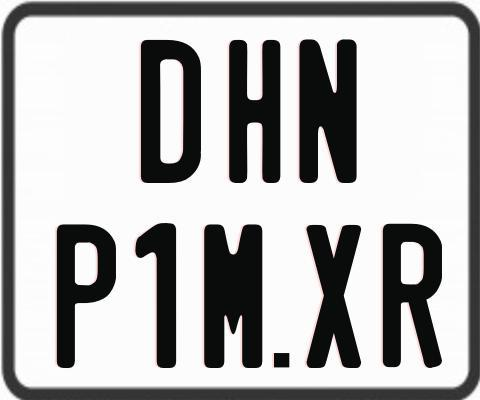1: (133, 220, 177, 367)
D: (138, 38, 201, 183)
H: (228, 39, 281, 184)
M: (201, 224, 260, 370)
N: (296, 39, 355, 186)
P: (55, 223, 116, 368)
R: (381, 222, 440, 366)
X: (306, 223, 365, 369)
